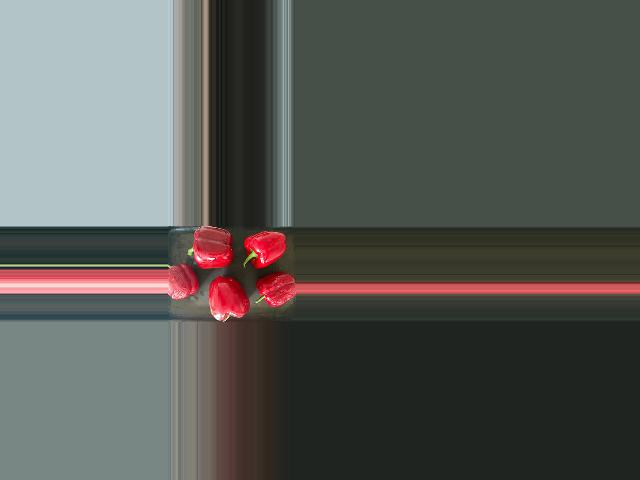bell_pepper: (168, 261, 200, 306)
